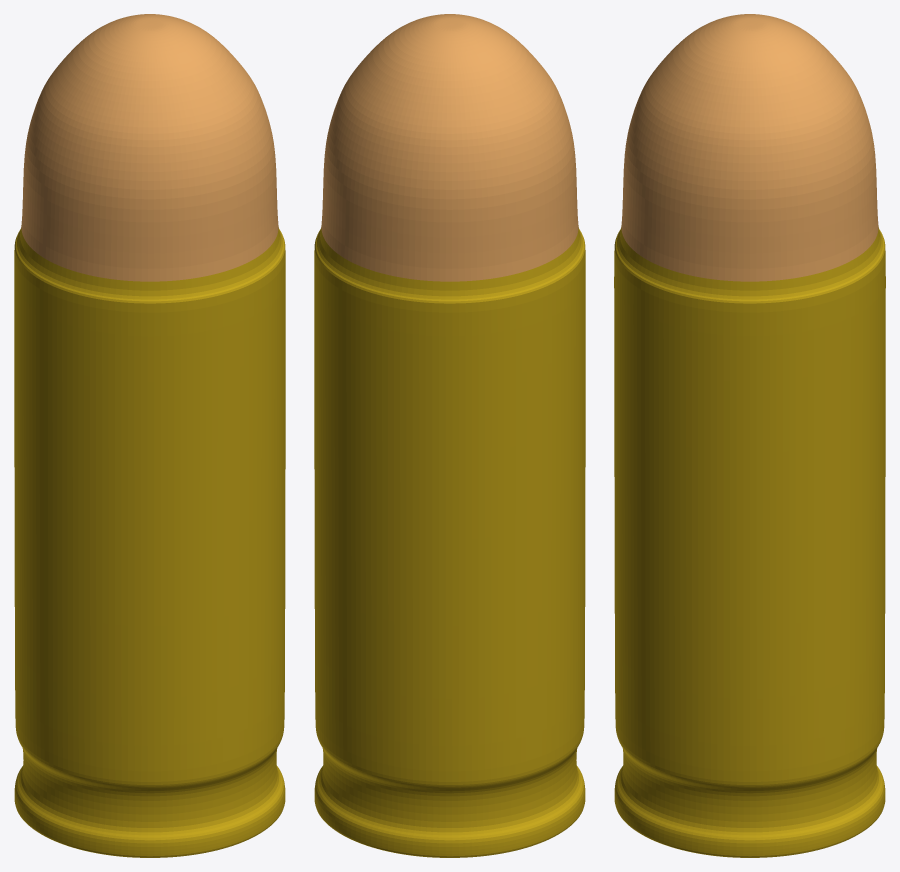
The model's file is bullet.fbx.
3 views of the same model, side by side, from view 1: azimuth 30°, elevation 25°; view 2: azimuth 150°, elevation 25°; view 3: azimuth 270°, elevation 25° (orthographic).
Visible parts, largest first — view 1: Cylinder; view 2: Cylinder; view 3: Cylinder.
Part boxes in pixels (bbox=[...]): Cylinder: bbox=[14, 14, 285, 857]; Cylinder: bbox=[314, 14, 585, 857]; Cylinder: bbox=[614, 14, 885, 857].
Bounding box in the file's own units: 54.29 × 172 × 54.29.
